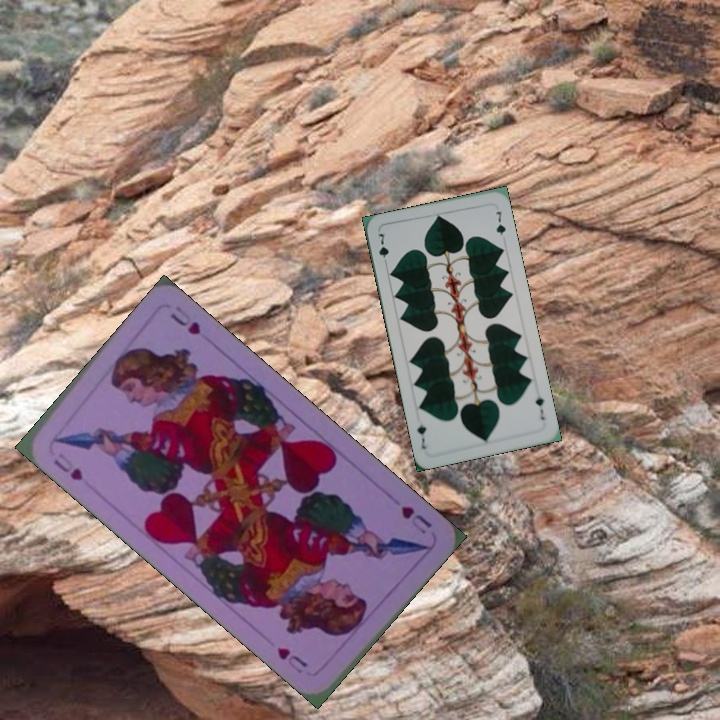G7: (374, 229, 391, 269), (531, 387, 548, 422)
HU: (396, 502, 435, 537), (49, 449, 86, 483)
